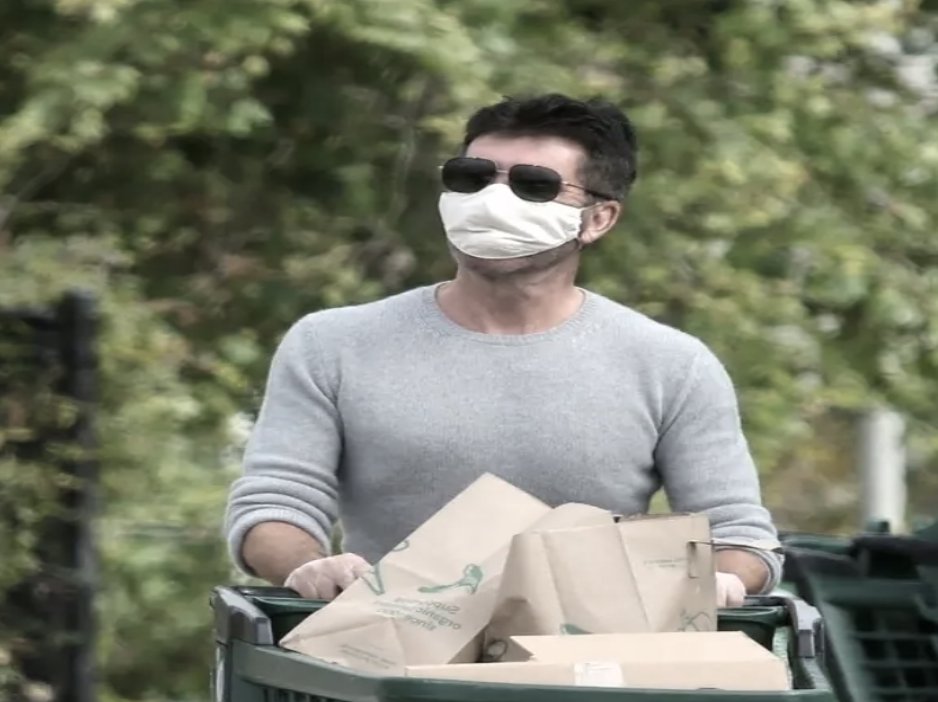mask_weared_incorrect: (429, 98, 640, 280)
